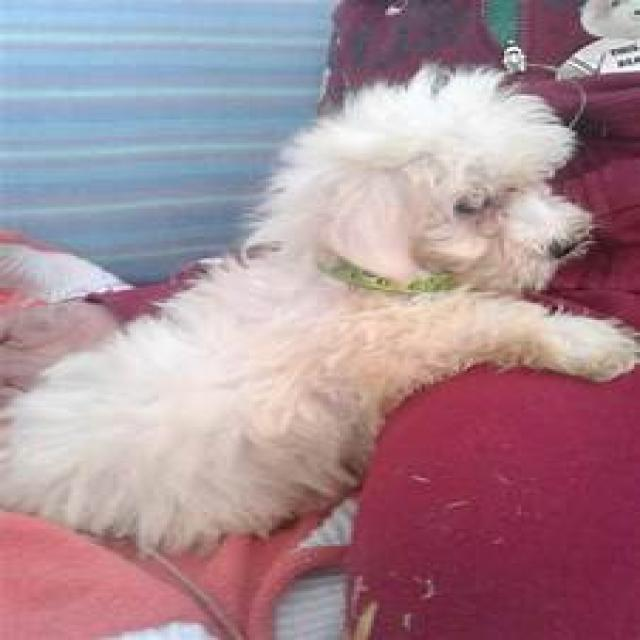KOPEK: (0, 56, 640, 555)
